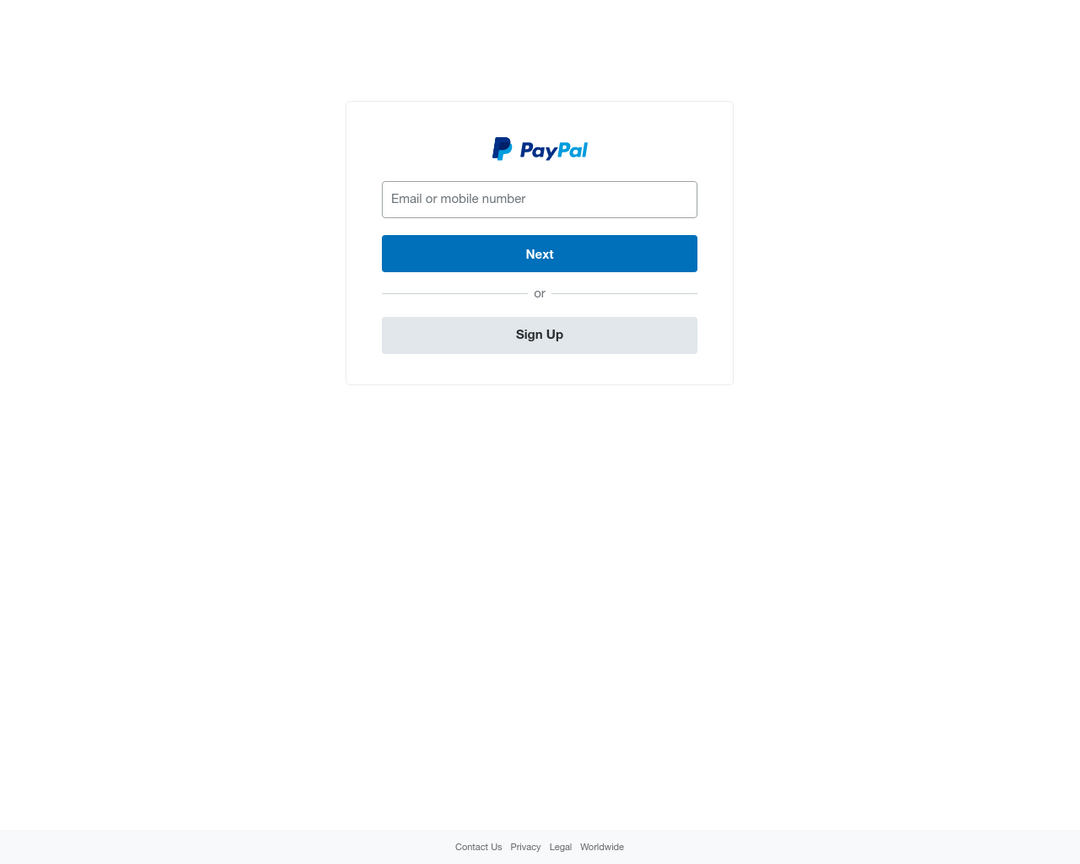Paypal: (490, 131, 591, 171)
